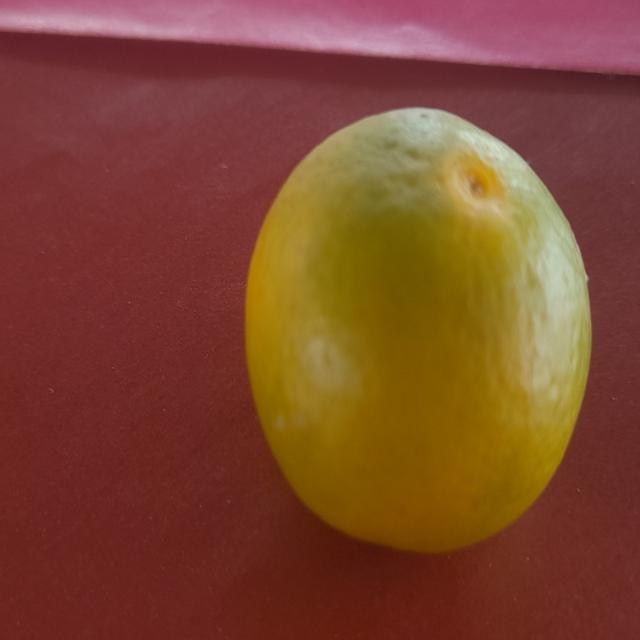greening: (248, 115, 597, 550)
